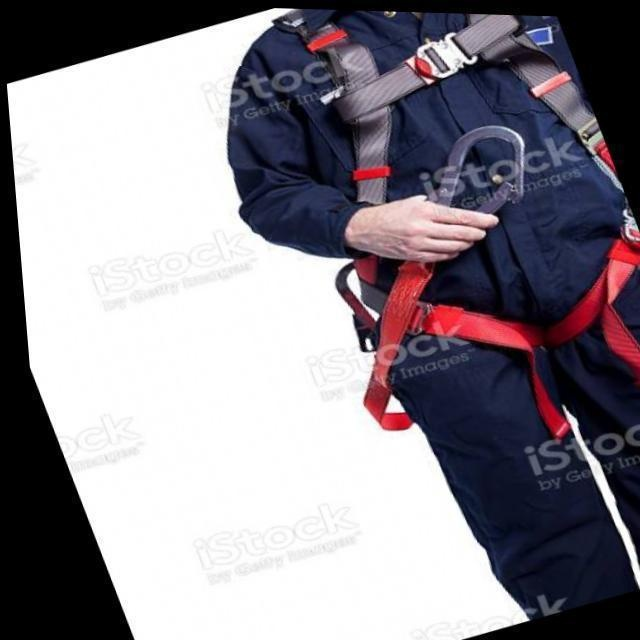Arnes_seguridad: (270, 8, 639, 443)
